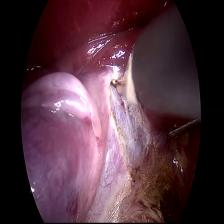Grasper: (168, 108, 198, 154)
Hook: (109, 49, 144, 115)
